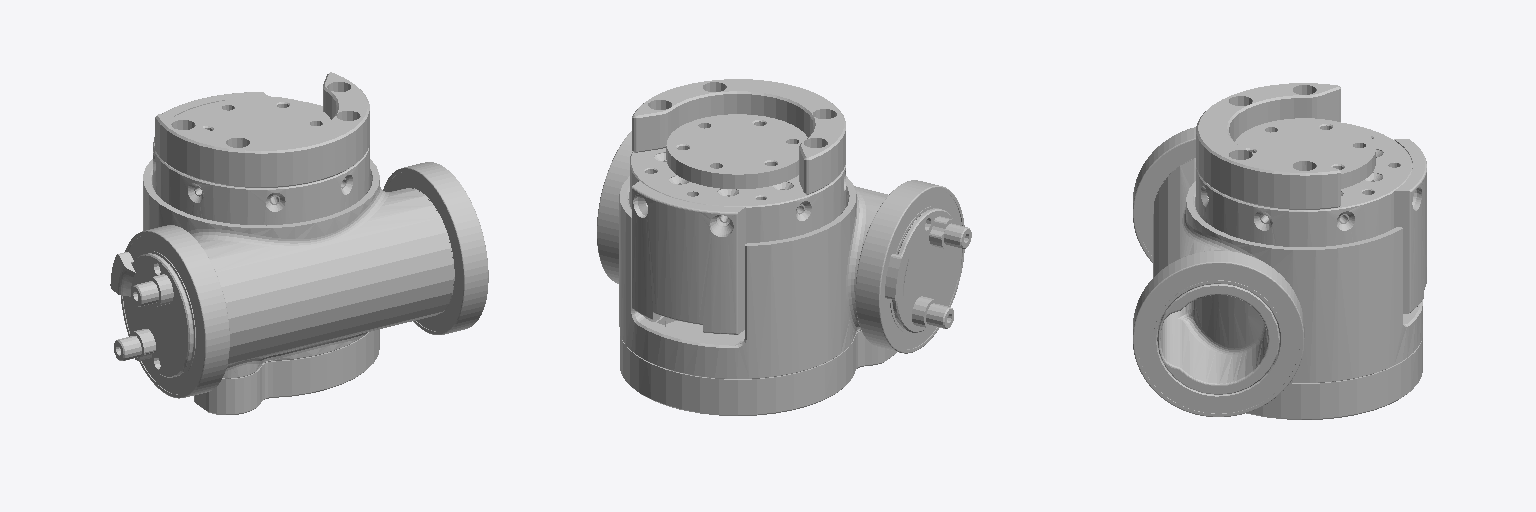
Rendered from l_hand_roll.obj.
3 renders of one model, left to right at view 1: azimuth 30°, elevation 25°; view 2: azimuth 150°, elevation 25°; view 3: azimuth 270°, elevation 25°, orthographic.
Visible parts, largest first — view 1: obj1; view 2: obj1; view 3: obj1.
Part boxes in pixels (bbox=[...]): obj1: bbox=[110, 72, 488, 414]; obj1: bbox=[597, 79, 971, 415]; obj1: bbox=[1133, 83, 1426, 419].
Bounding box in the file's own units: 0.09 × 0.0737 × 0.072.